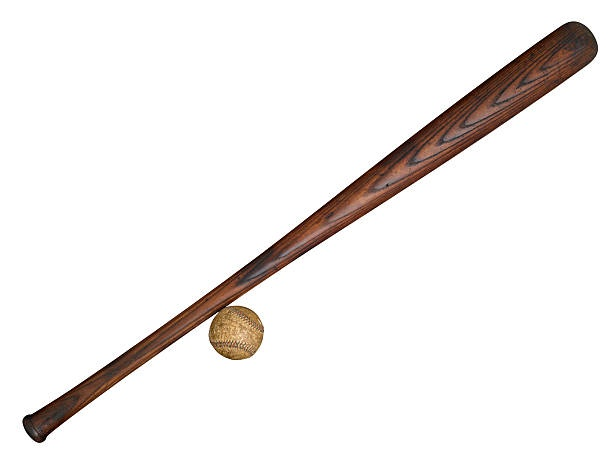bita: (25, 26, 596, 440)
